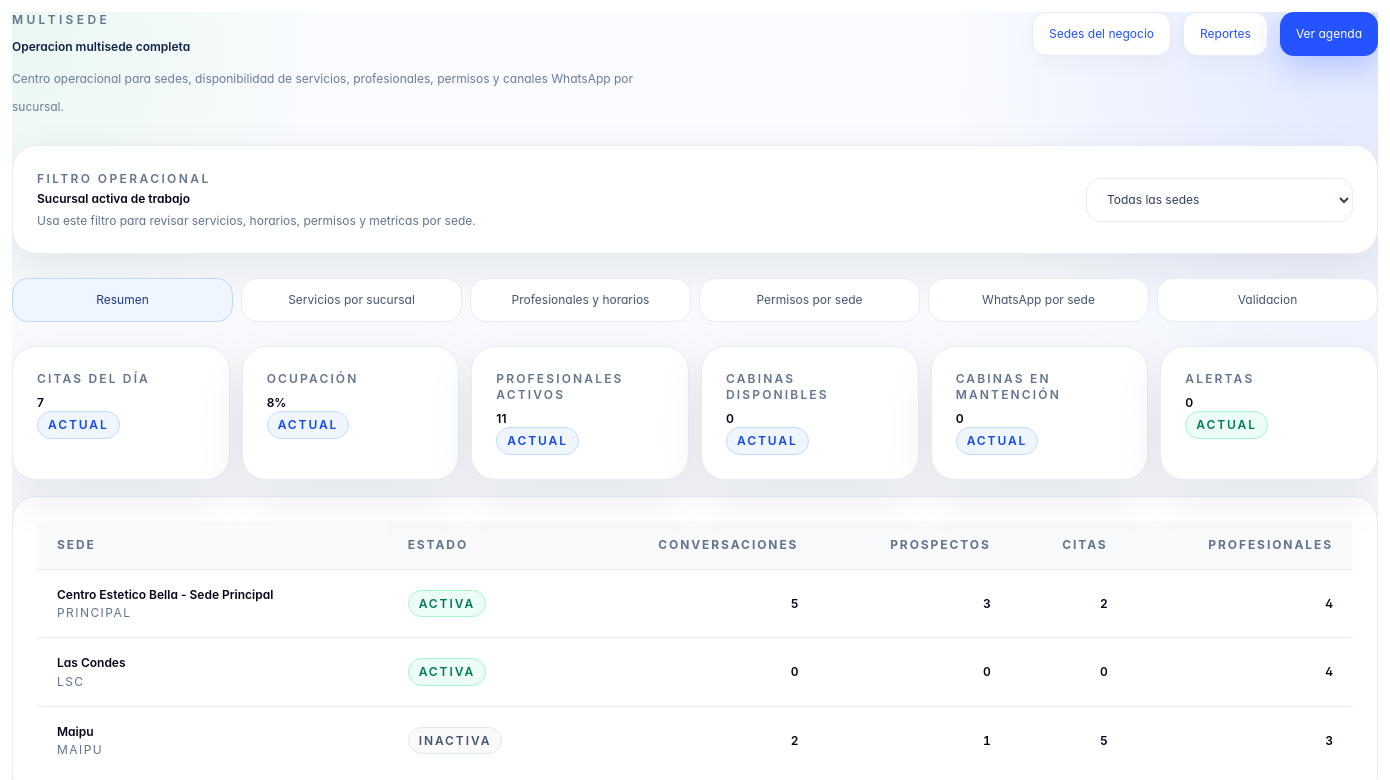
Test: MultisiteOperationsPage - Catalog (Servicios por sede) › shows empty state when location has only products
This screenshot has width=1390, height=780.
expect the table is shown: met, box [37, 521, 1353, 774]
Click the button "Servicios por sucursal". click: (352, 300)
box: [241, 278, 462, 322]
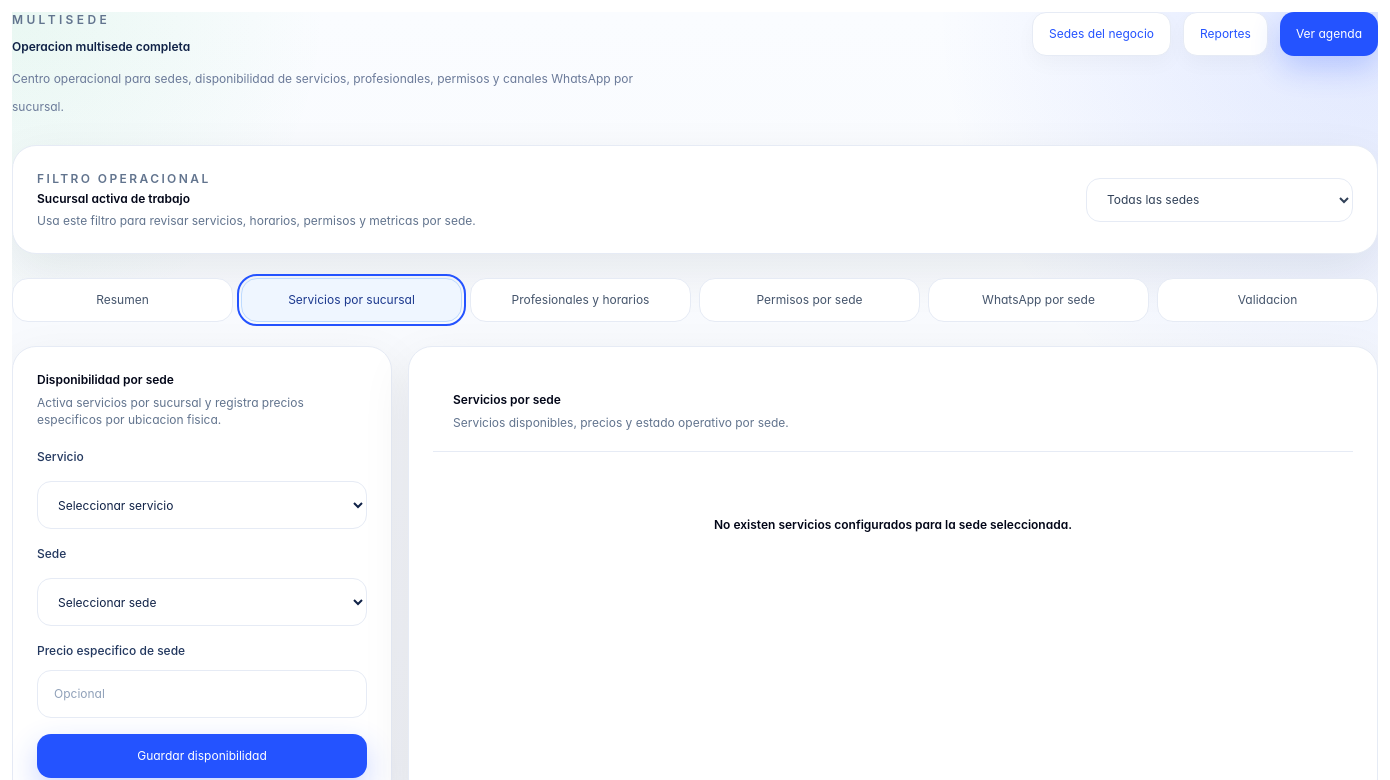
expect the text "No existen servicios configurados para la sede seleccionada." is shown: met, box [714, 516, 1072, 535]
